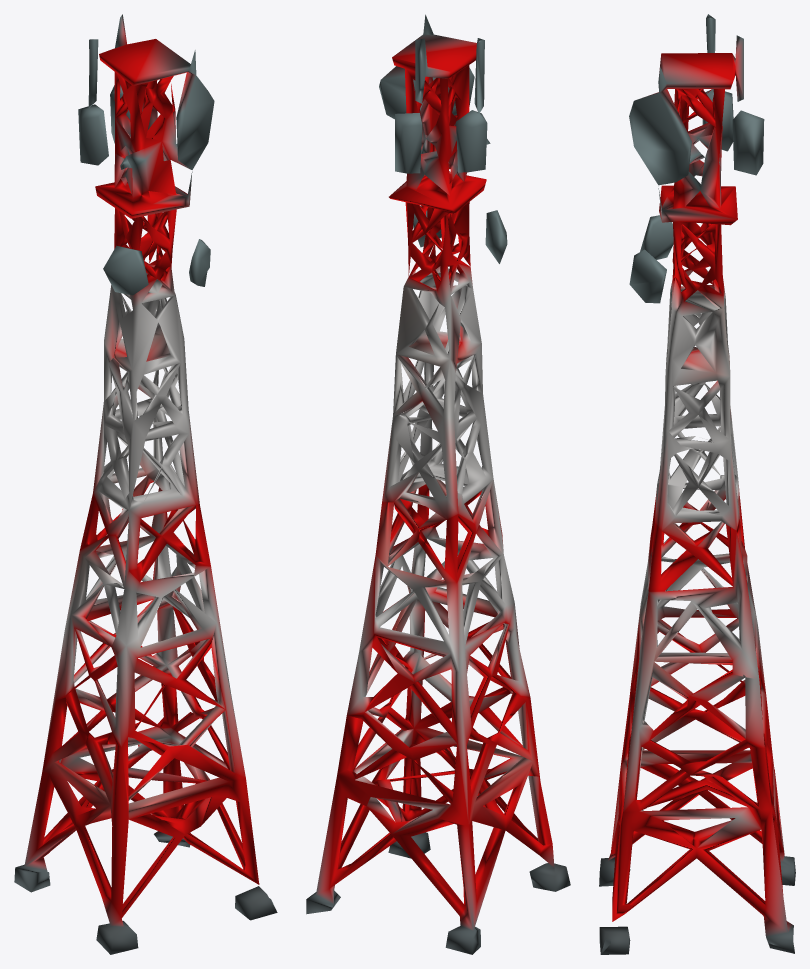
File: gen3d-antenna-tower-lod1.glb
3 views of the same model, side by side, from view 1: azimuth 30°, elevation 25°; view 2: azimuth 150°, elevation 25°; view 3: azimuth 270°, elevation 25° (orthographic).
Visible parts, largest first — view 1: part_0; view 2: part_0; view 3: part_0.
Boxes of the visible parts, x1,y1,x2,y2 form: part_0: (14,14,277,954); part_0: (306,14,570,954); part_0: (599,14,795,954).
Bounding box in the file's own units: 0.1999 × 0.9946 × 0.2022.
